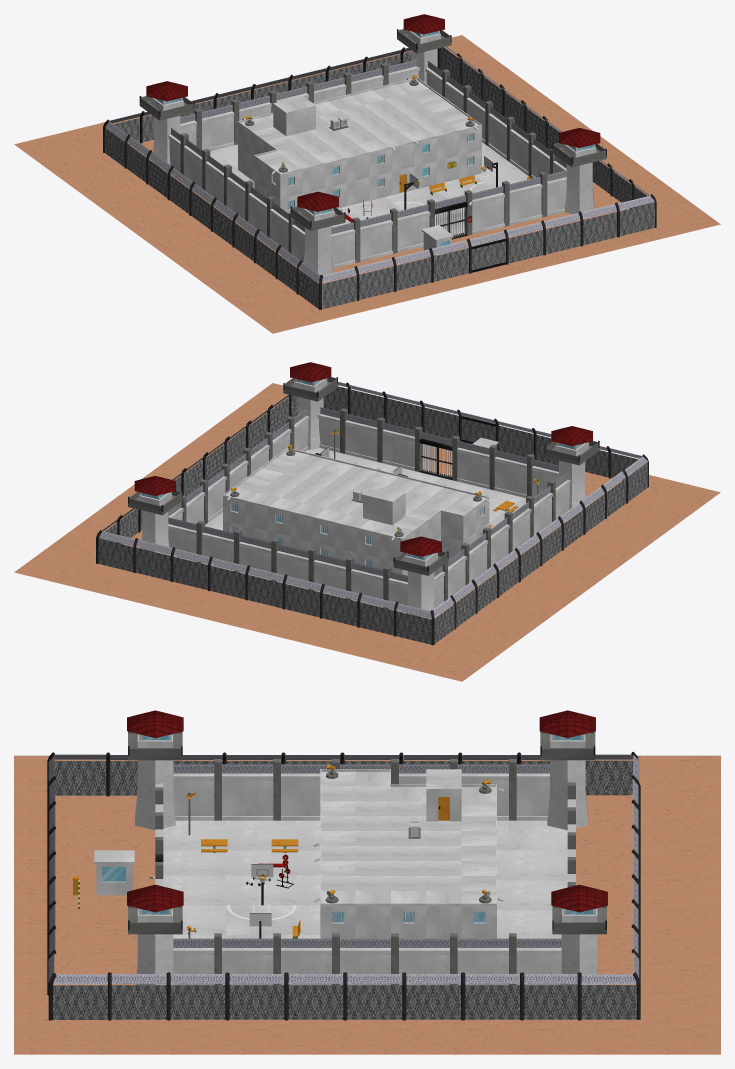
The model's file is prison.glb.
3 views of the same model, one above another, from view 1: azimuth 30°, elevation 25°; view 2: azimuth 150°, elevation 25°; view 3: azimuth 270°, elevation 25° (orthographic). The views are drawn at different scales.
Parts seen in each view (by area): view 1: SM_Guard_Tower1, SM_Guard_Tower3, SM_Guard_Tower4, SM_Small_Fence_Corner2, SM_Guard_Tower2, SM_Large_Fence2, SM_Large_Fence18, SM_Large_Fence3, SM_Large_Fence17, SM_Large_Fence1, SM_Small_Fence_Corner3, SM_Small_Fence_Corner6 (+95 smaller); view 2: SM_Guard_Tower4, SM_Guard_Tower2, SM_Guard_Tower3, SM_Guard_Tower1, SM_Small_Fence_Corner6, SM_Large_Fence2, SM_Large_Fence3, SM_Large_Fence1, SM_Large_Fence18, SM_Small_Fence_Corner4, SM_Large_Gate1, SM_Small_Fence_Corner2 (+94 smaller); view 3: SM_Guard_Tower3, SM_Guard_Tower4, SM_Guard_Tower2, SM_Guard_Tower1, SM_Large_Fence26, SM_Small_Fence_Corner4, SM_Small_Fence_Corner3, SM_Large_Fence25, SM_Small_Fence28, SM_Small_Fence29, SM_Small_Fence30, SM_Small_Fence31 (+102 smaller).
Boxes of the visible parts, x1=… form: SM_Guard_Tower1: x1=552, y1=128, x2=606, y2=215; SM_Guard_Tower3: x1=290, y1=191, x2=345, y2=276; SM_Guard_Tower4: x1=139, y1=81, x2=194, y2=166; SM_Small_Fence_Corner2: x1=296, y1=260, x2=356, y2=309; SM_Guard_Tower2: x1=397, y1=14, x2=451, y2=84; SM_Large_Fence2: x1=464, y1=186, x2=504, y2=235; SM_Large_Fence18: x1=352, y1=213, x2=392, y2=262; SM_Large_Fence3: x1=502, y1=176, x2=542, y2=226; SM_Large_Fence17: x1=194, y1=104, x2=234, y2=150; SM_Large_Fence1: x1=390, y1=204, x2=430, y2=253; SM_Small_Fence_Corner3: x1=615, y1=182, x2=656, y2=237; SM_Small_Fence_Corner6: x1=103, y1=111, x2=144, y2=166; SM_Guard_Tower4: x1=393, y1=536, x2=448, y2=619; SM_Guard_Tower2: x1=128, y1=476, x2=182, y2=555; SM_Guard_Tower3: x1=544, y1=426, x2=599, y2=511; SM_Guard_Tower1: x1=283, y1=362, x2=337, y2=449; SM_Small_Fence_Corner6: x1=394, y1=597, x2=454, y2=645; SM_Large_Fence2: x1=382, y1=422, x2=422, y2=471; SM_Large_Fence3: x1=345, y1=413, x2=385, y2=462; SM_Large_Fence1: x1=457, y1=441, x2=497, y2=490; SM_Large_Fence18: x1=494, y1=450, x2=534, y2=497; SM_Small_Fence_Corner4: x1=96, y1=515, x2=135, y2=571; SM_Large_Gate1: x1=419, y1=431, x2=459, y2=481; SM_Small_Fence_Corner2: x1=609, y1=448, x2=648, y2=503; SM_Guard_Tower3: x1=127, y1=710, x2=183, y2=830; SM_Guard_Tower4: x1=539, y1=710, x2=595, y2=830; SM_Guard_Tower2: x1=551, y1=884, x2=607, y2=984; SM_Guard_Tower1: x1=127, y1=884, x2=183, y2=984; SM_Large_Fence26: x1=214, y1=759, x2=273, y2=820; SM_Small_Fence_Corner4: x1=577, y1=952, x2=640, y2=1020; SM_Small_Fence_Corner3: x1=47, y1=949, x2=107, y2=1020; SM_Large_Fence25: x1=273, y1=759, x2=331, y2=820; SM_Small_Fence28: x1=343, y1=972, x2=402, y2=1020; SM_Small_Fence29: x1=284, y1=972, x2=343, y2=1020; SM_Small_Fence30: x1=225, y1=972, x2=284, y2=1020; SM_Small_Fence31: x1=166, y1=972, x2=225, y2=1020.
Bounding box in the file's own units: 0.3 × 0.0492 × 0.3.
Materials: 5 (5 with a texture image).
